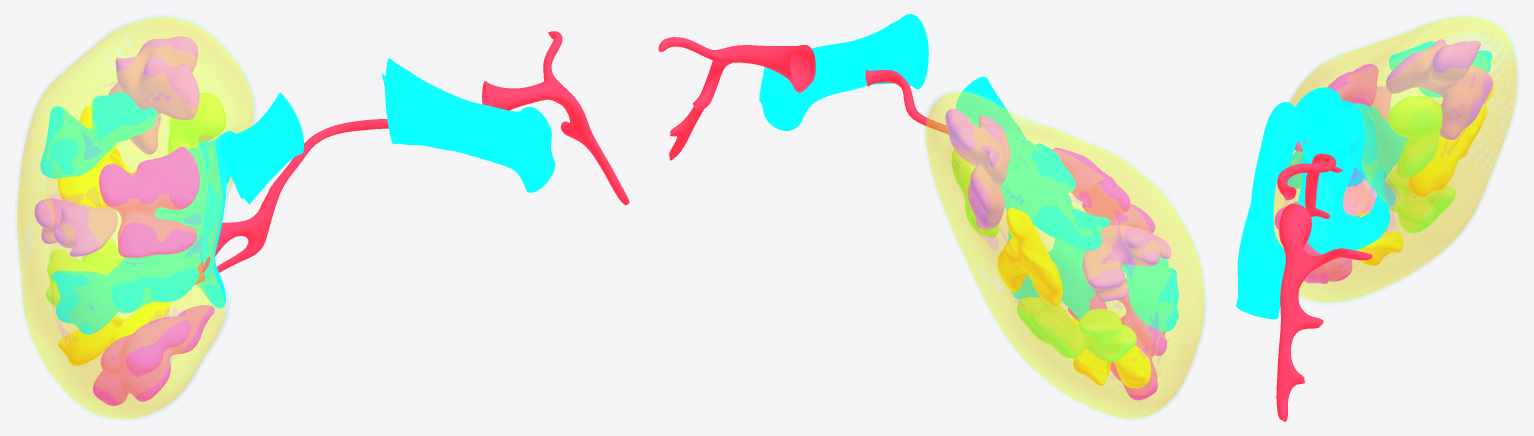
The model's file is niere-female-mobil.glb.
The picture shows the model from 3 angles, left to right: view 1: azimuth 30°, elevation 25°; view 2: azimuth 150°, elevation 25°; view 3: azimuth 270°, elevation 25°; orthographic projection.
Parts seen in each view (by area): view 1: 0:0:VH_F_outer_cortex_of_kidney_R, 1:2:VH_F_left_renal_vein, 0:9:VH_F_renal_pyramid_R_e, 0:3:VH_F_hilum_of_kidney_R, 0:14:VH_F_renal_pyramid_R_j, 0:5:VH_F_renal_pyramid_R_a, 0:12:VH_F_renal_pyramid_R_h, 0:7:VH_F_renal_pyramid_R_c, 1:3:VH_F_right_renal_vein, 1:1:VH_F_left_renal_artery, 1:0:VH_F_right_renal_artery, 0:10:VH_F_renal_pyramid_R_f (+6 smaller); view 2: 0:0:VH_F_outer_cortex_of_kidney_R, 1:2:VH_F_left_renal_vein, 0:11:VH_F_renal_pyramid_R_g, 0:5:VH_F_renal_pyramid_R_a, 1:1:VH_F_left_renal_artery, 0:3:VH_F_hilum_of_kidney_R, 0:7:VH_F_renal_pyramid_R_c, 0:10:VH_F_renal_pyramid_R_f, 0:8:VH_F_renal_pyramid_R_d, 0:9:VH_F_renal_pyramid_R_e, 0:12:VH_F_renal_pyramid_R_h, 0:14:VH_F_renal_pyramid_R_j (+6 smaller); view 3: 0:0:VH_F_outer_cortex_of_kidney_R, 0:3:VH_F_hilum_of_kidney_R, 1:2:VH_F_left_renal_vein, 0:5:VH_F_renal_pyramid_R_a, 1:1:VH_F_left_renal_artery, 1:3:VH_F_right_renal_vein, 0:6:VH_F_renal_pyramid_R_b, 0:8:VH_F_renal_pyramid_R_d, 0:11:VH_F_renal_pyramid_R_g, 0:1:VH_F_renal_column_R, 1:0:VH_F_right_renal_artery, 0:9:VH_F_renal_pyramid_R_e (+6 smaller).
Part boxes in pixels (x1,y1,x2,y2): 0:0:VH_F_outer_cortex_of_kidney_R: [17, 17, 253, 418]; 1:2:VH_F_left_renal_vein: [382, 58, 555, 192]; 0:9:VH_F_renal_pyramid_R_e: [99, 146, 199, 257]; 0:3:VH_F_hilum_of_kidney_R: [107, 130, 235, 308]; 0:14:VH_F_renal_pyramid_R_j: [93, 305, 214, 405]; 0:5:VH_F_renal_pyramid_R_a: [109, 36, 199, 154]; 0:12:VH_F_renal_pyramid_R_h: [51, 267, 199, 334]; 0:7:VH_F_renal_pyramid_R_c: [40, 92, 157, 178]; 1:3:VH_F_right_renal_vein: [223, 92, 304, 204]; 1:1:VH_F_left_renal_artery: [482, 31, 629, 205]; 1:0:VH_F_right_renal_artery: [194, 119, 388, 284]; 0:10:VH_F_renal_pyramid_R_f: [34, 198, 117, 256]; 0:0:VH_F_outer_cortex_of_kidney_R: [926, 92, 1204, 418]; 1:2:VH_F_left_renal_vein: [759, 14, 928, 130]; 0:11:VH_F_renal_pyramid_R_g: [1017, 297, 1136, 361]; 0:5:VH_F_renal_pyramid_R_a: [945, 109, 1010, 229]; 1:1:VH_F_left_renal_artery: [658, 37, 815, 160]; 0:3:VH_F_hilum_of_kidney_R: [1000, 139, 1095, 320]; 0:7:VH_F_renal_pyramid_R_c: [1028, 143, 1110, 250]; 0:10:VH_F_renal_pyramid_R_f: [1082, 225, 1171, 301]; 0:8:VH_F_renal_pyramid_R_d: [997, 207, 1062, 306]; 0:9:VH_F_renal_pyramid_R_e: [1052, 147, 1155, 233]; 0:12:VH_F_renal_pyramid_R_h: [1121, 257, 1178, 331]; 0:14:VH_F_renal_pyramid_R_j: [1068, 279, 1166, 400]; 0:0:VH_F_outer_cortex_of_kidney_R: [1274, 17, 1516, 302]; 0:3:VH_F_hilum_of_kidney_R: [1298, 100, 1408, 254]; 1:2:VH_F_left_renal_vein: [1236, 102, 1300, 319]; 0:5:VH_F_renal_pyramid_R_a: [1386, 39, 1492, 139]; 1:1:VH_F_left_renal_artery: [1276, 204, 1372, 421]; 1:3:VH_F_right_renal_vein: [1295, 87, 1361, 163]; 0:6:VH_F_renal_pyramid_R_b: [1388, 95, 1442, 178]; 0:8:VH_F_renal_pyramid_R_d: [1408, 75, 1493, 197]; 0:11:VH_F_renal_pyramid_R_g: [1385, 169, 1455, 233]; 0:1:VH_F_renal_column_R: [1286, 57, 1484, 267]; 1:0:VH_F_right_renal_artery: [1277, 153, 1342, 218]; 0:9:VH_F_renal_pyramid_R_e: [1294, 64, 1378, 152].
Bounding box in the file's own units: 0.1726 × 0.0979 × 0.0756.
